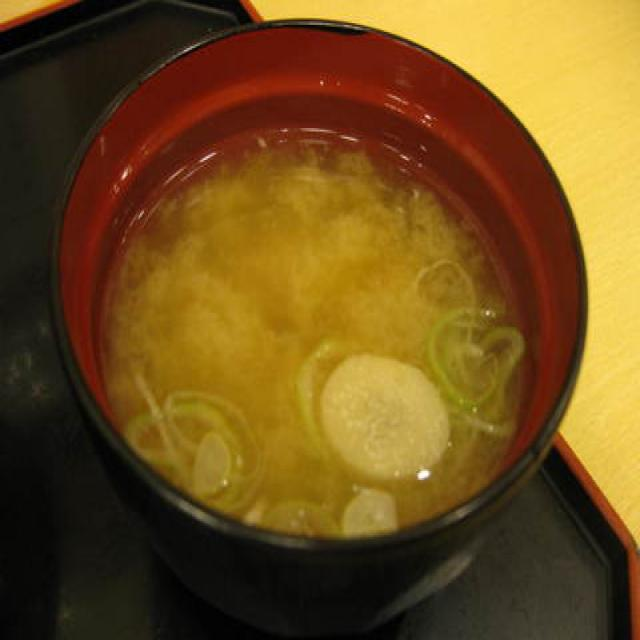汤锅炖物: (89, 53, 540, 539)
